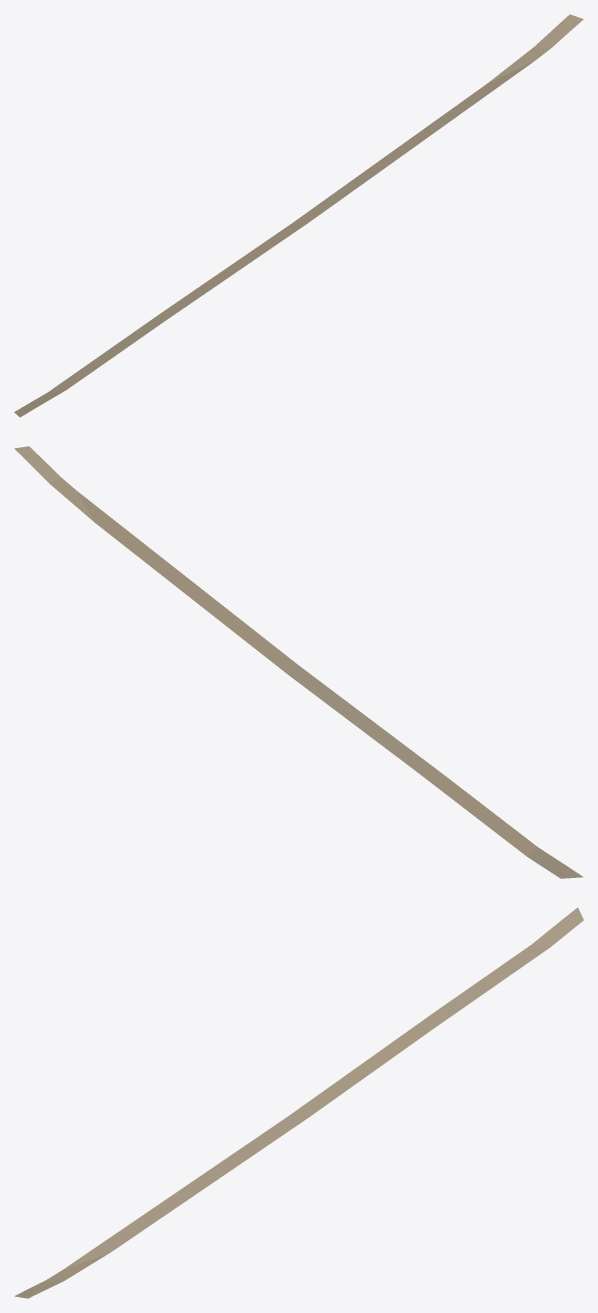
The model's file is farm_-2_-4_track.glb.
3 renders of one model, top to bottom at view 1: azimuth 90°, elevation 25°; view 2: azimuth 150°, elevation 25°; view 3: azimuth 270°, elevation 25°, orthographic. The views are drawn at different scales.
Visible parts, largest first — view 1: geometry_0; view 2: geometry_0; view 3: geometry_0.
Part boxes in pixels (x1,y1,x2,y2): geometry_0: (14,14,583,417); geometry_0: (14,446,583,878); geometry_0: (14,907,583,1298).
Size of the model in its own units: 187 by 3.28 by 114.
